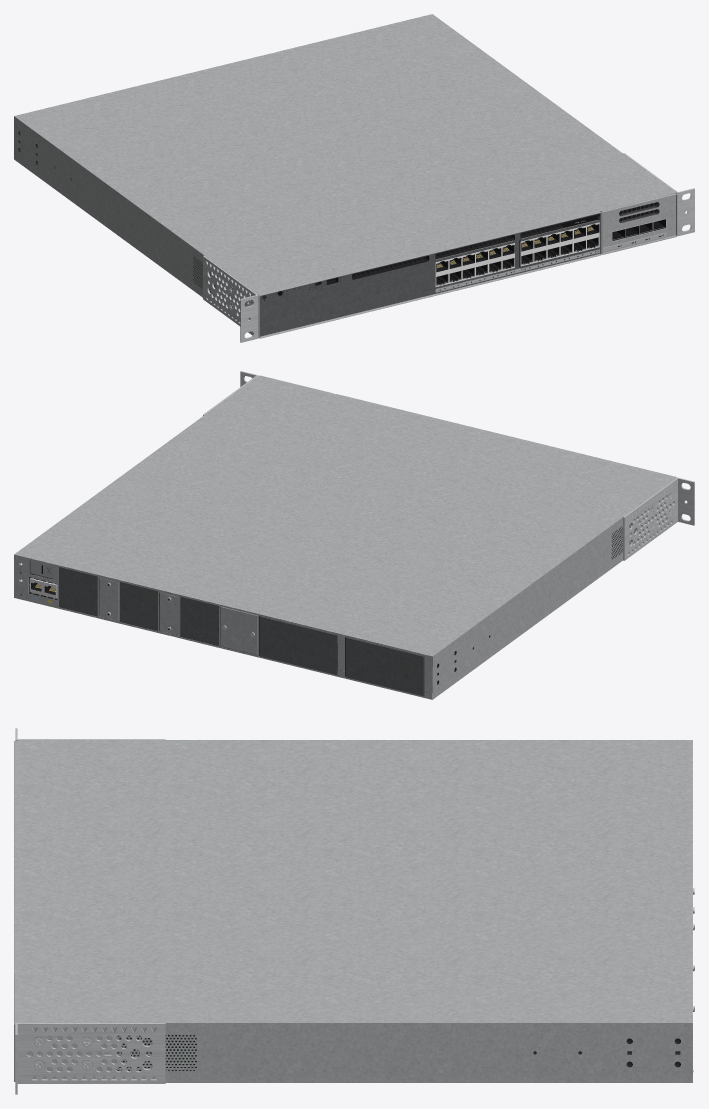
3 renders of one model, top to bottom at view 1: azimuth 30°, elevation 25°; view 2: azimuth 150°, elevation 25°; view 3: azimuth 270°, elevation 25°, orthographic. The views are drawn at different scales.
Visible parts, largest first — view 1: Shell, RJ45_Ports, Rack_Ears, Uplink_Panel, Front_Lip, Front_Details, Port_Band; view 2: Shell, Rack_Ears, empty:PS-A, empty:PS-B, Rear_Details, empty:FAN 1, empty:FAN 3, empty:FAN 2, Front_Lip, empty:StackPort1/1, empty:StackPort1/2; view 3: Shell, Rack_Ears, Front_Lip.
Part boxes in pixels (<box>): Shell: <box>14,14,676,336</box>; RJ45_Ports: <box>435,221,599,287</box>; Rack_Ears: <box>203,153,694,342</box>; Uplink_Panel: <box>598,193,675,252</box>; Front_Lip: <box>258,193,677,338</box>; Front_Details: <box>260,213,599,302</box>; Port_Band: <box>435,249,599,292</box>; Shell: <box>14,376,675,699</box>; Rack_Ears: <box>203,371,694,560</box>; empty:PS-A: <box>259,616,337,674</box>; empty:PS-B: <box>346,637,423,696</box>; Rear_Details: <box>19,559,257,655</box>; empty:FAN 1: <box>59,567,97,616</box>; empty:FAN 3: <box>180,596,218,645</box>; empty:FAN 2: <box>120,582,157,630</box>; Front_Lip: <box>259,375,676,477</box>; empty:StackPort1/1: <box>99,578,118,620</box>; empty:StackPort1/2: <box>160,592,179,635</box>; Shell: <box>17,740,692,1082</box>; Rack_Ears: <box>15,728,165,1094</box>; Front_Lip: <box>14,741,17,1081</box>.
Bounding box in the file's own units: 0.4826 × 0.044 × 0.4529.
28 materials, 4 textured.
